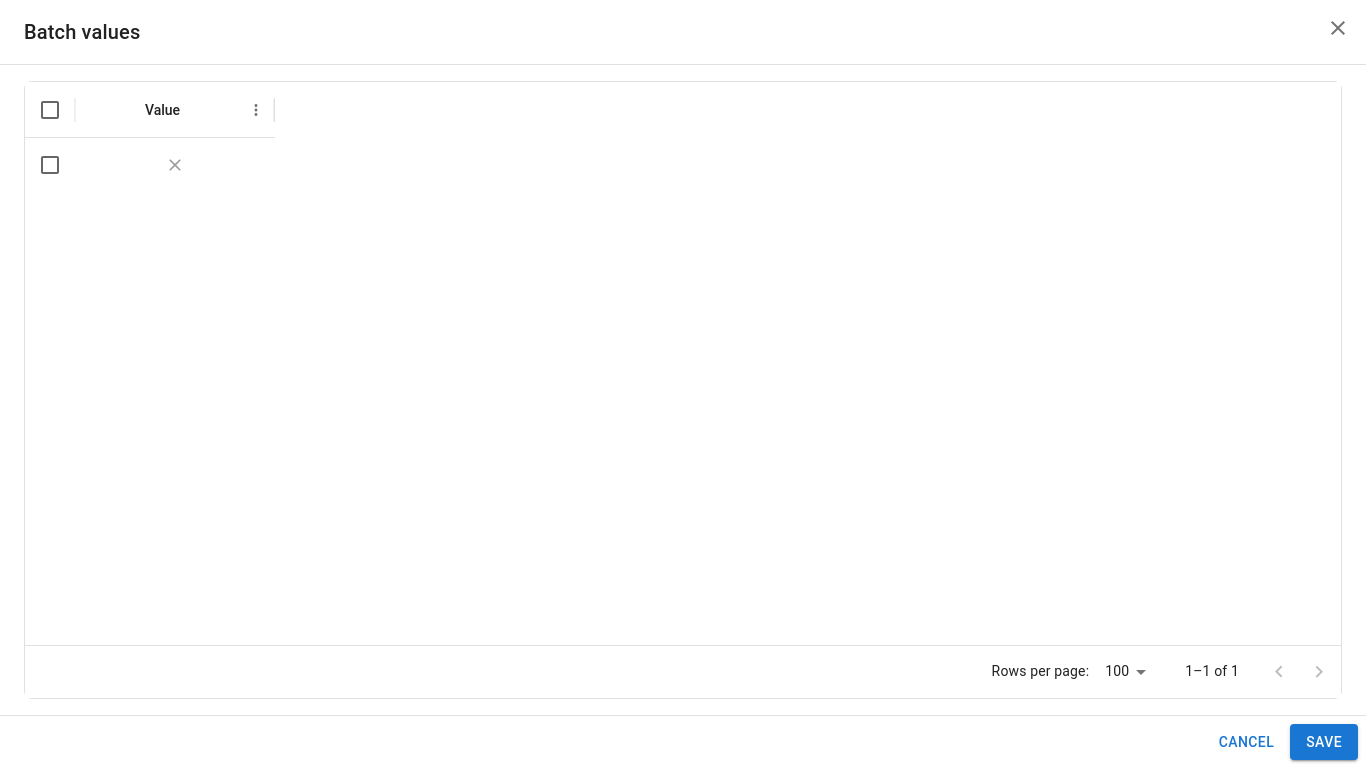
Test: BatchEntityDialog › protects pending boolean values and compares dates by value
This screenshot has width=1366, height=768.
Double-click the cell named "no" at {"x": 175, "y": 164}, box [165, 154, 185, 174]
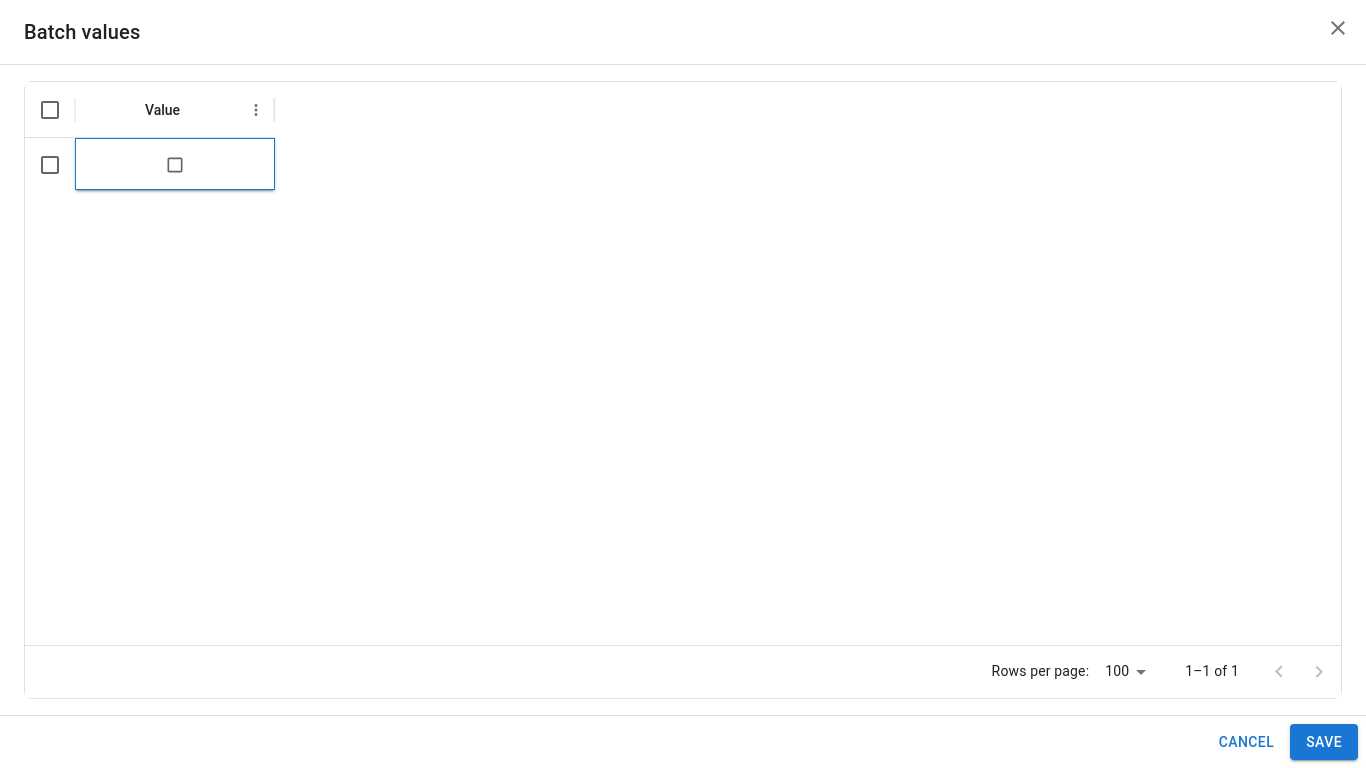
Click the 3rd checkbox at {"x": 175, "y": 164}, box [165, 154, 185, 174]
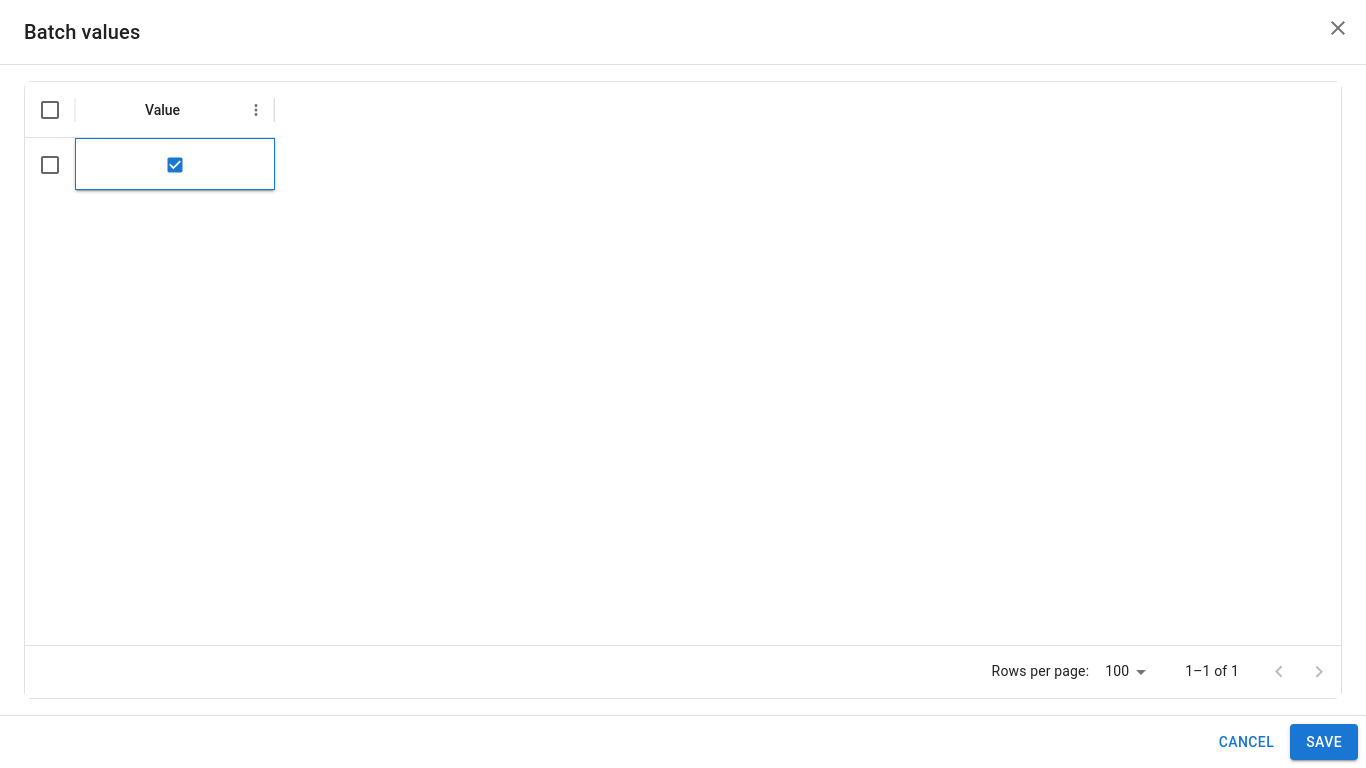
Press Escape in the 3rd checkbox, box [165, 154, 185, 174]
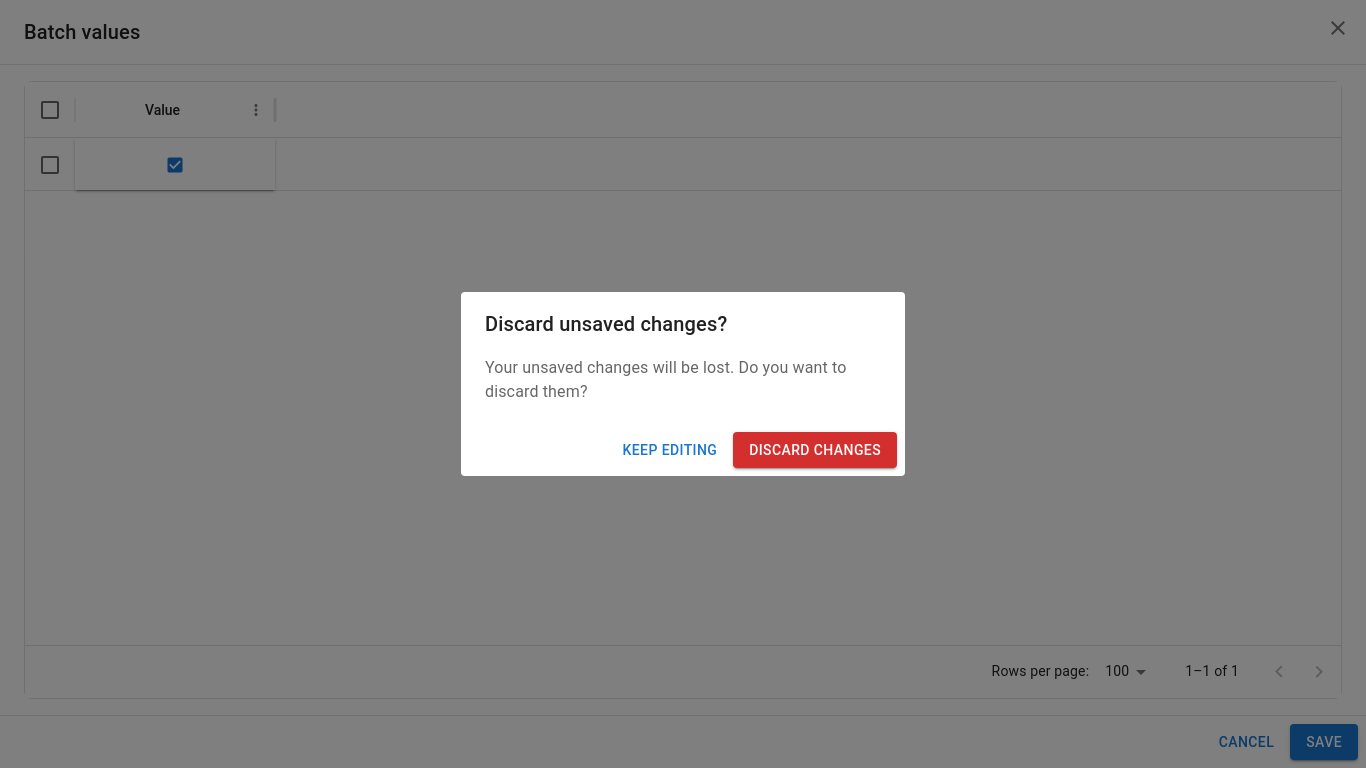
Click the button "Keep editing" at {"x": 670, "y": 450}, box [615, 432, 725, 468]
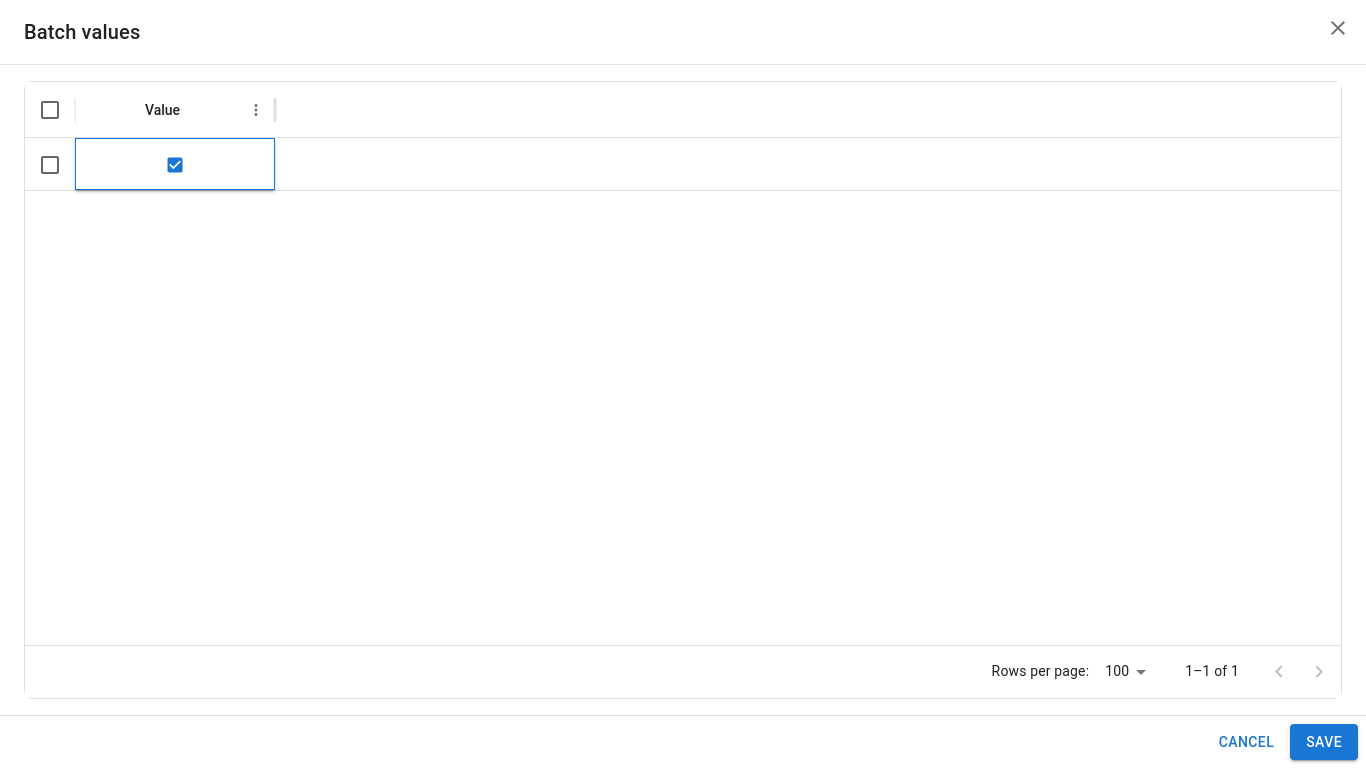
Now the heading "Discard unsaved changes?" is gone
